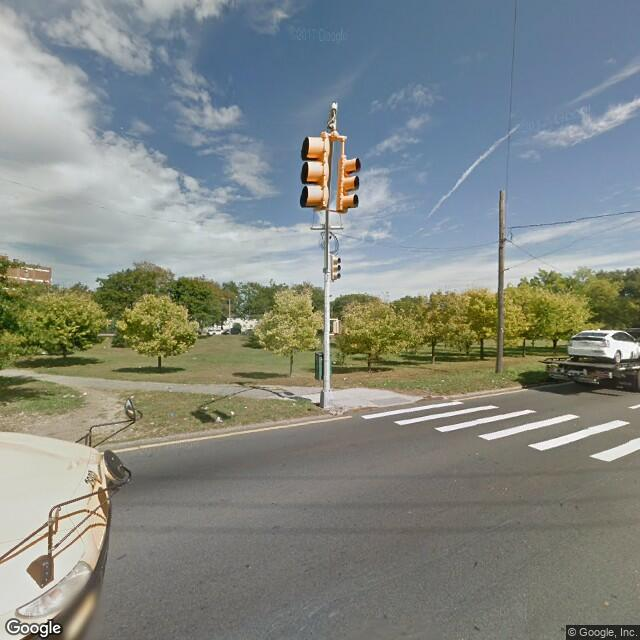litter: (221, 405, 246, 422), (209, 413, 227, 428), (76, 383, 90, 395), (178, 411, 188, 423)
